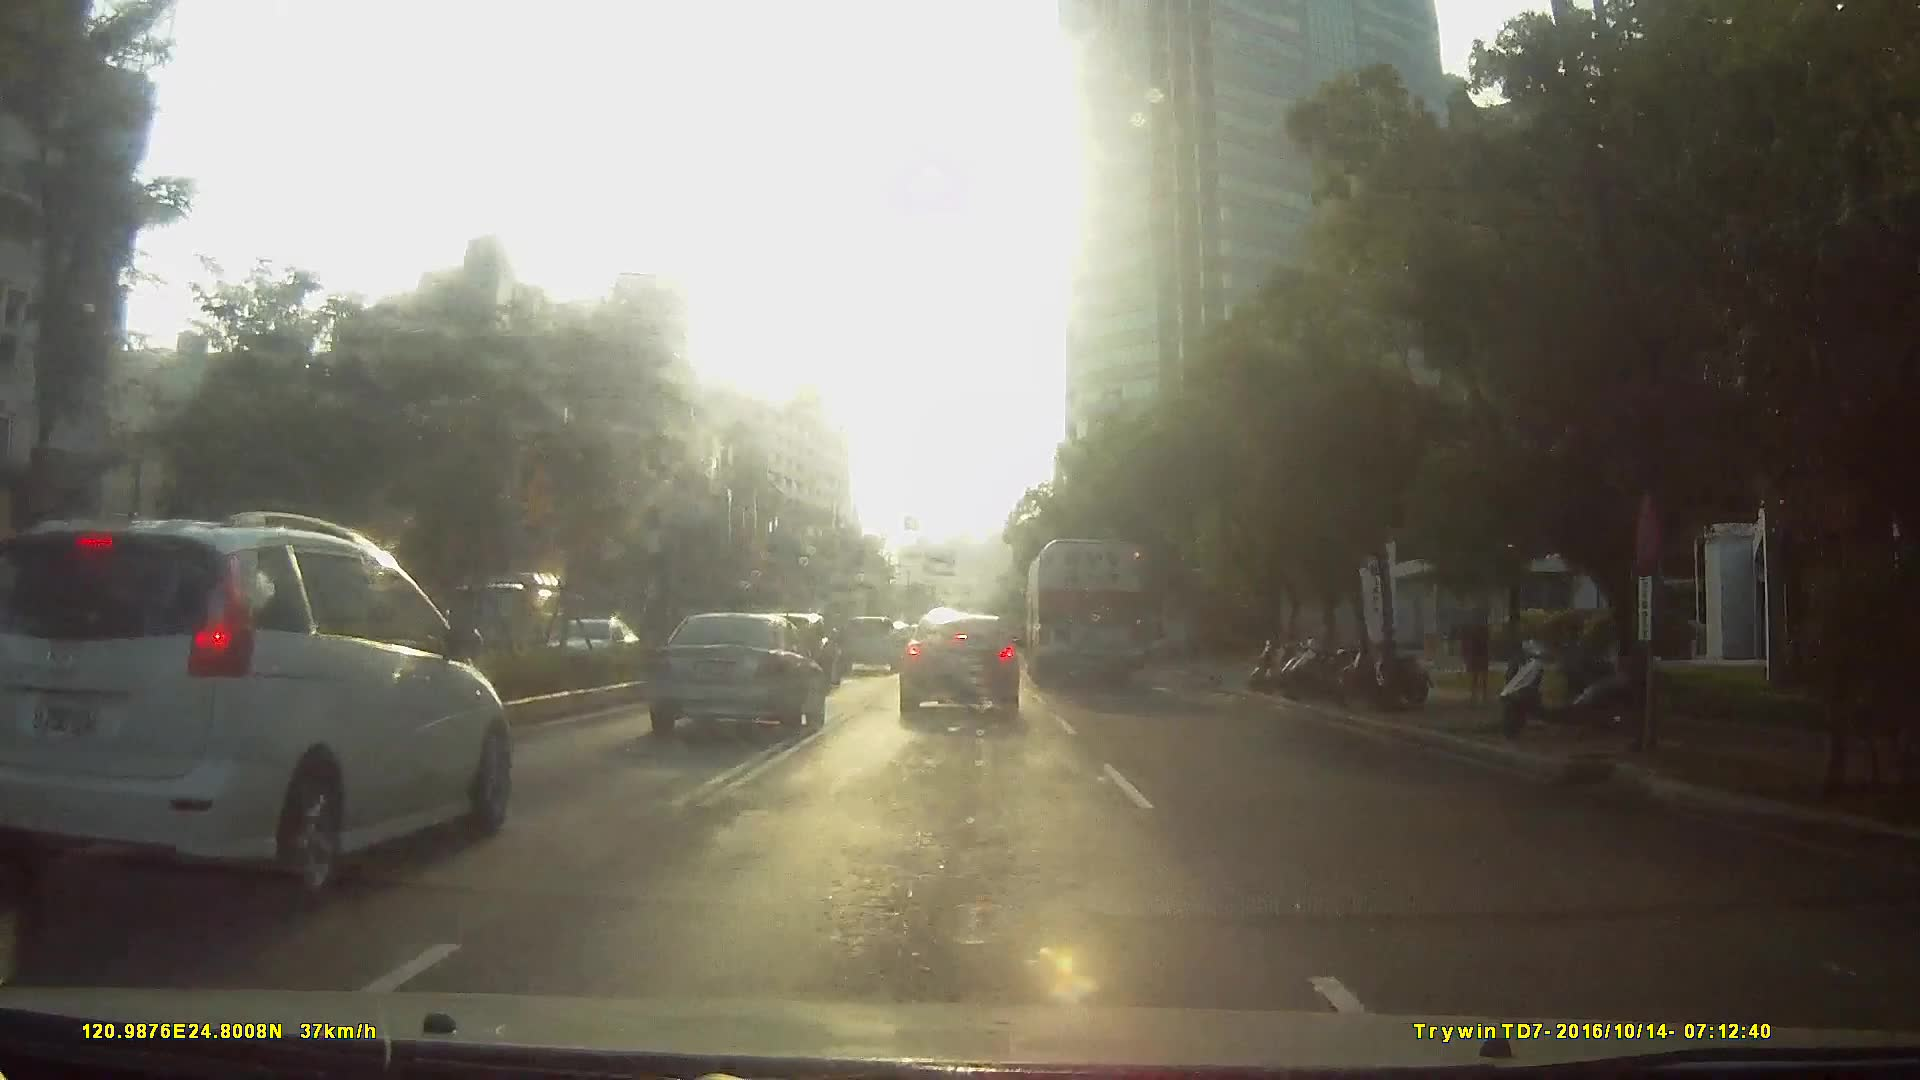pedestrian: (1459, 610, 1499, 710)
vehicle: (34, 494, 510, 922), (250, 556, 684, 868), (638, 609, 822, 741), (1022, 535, 1147, 691), (895, 612, 1023, 717), (435, 564, 549, 658), (543, 617, 644, 676), (832, 614, 900, 671)
